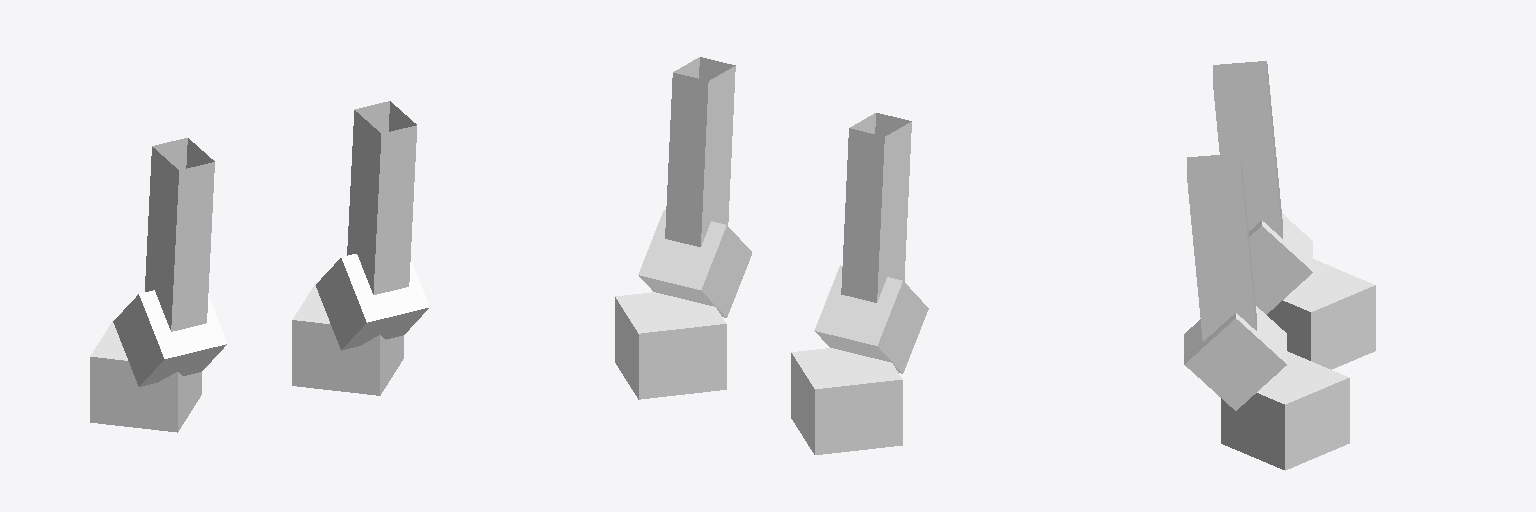
The model's file is mt_horse_bb.obj.
3 renders of one model, left to right at view 1: azimuth 30°, elevation 25°; view 2: azimuth 150°, elevation 25°; view 3: azimuth 270°, elevation 25°, orthographic.
Parts seen in each view (by area): view 1: cube.003, cube.004, cube.000, cube, cube.001, cube.002; view 2: cube.003, cube.004, cube, cube.000, cube.001, cube.002; view 3: cube.000, cube.004, cube, cube.003, cube.001, cube.002.
Boxes of the visible parts, x1,y1,x2,y2 form: cube.003: [145, 138, 214, 331]; cube.004: [347, 101, 416, 294]; cube.000: [292, 283, 403, 395]; cube: [90, 320, 201, 432]; cube.001: [316, 254, 429, 350]; cube.002: [113, 290, 226, 386]; cube.003: [841, 113, 911, 302]; cube.004: [665, 57, 735, 246]; cube: [791, 348, 902, 454]; cube.000: [615, 292, 726, 399]; cube.001: [638, 210, 751, 317]; cube.002: [814, 265, 928, 373]; cube.000: [1221, 351, 1349, 470]; cube.004: [1187, 153, 1256, 341]; cube: [1267, 259, 1375, 369]; cube.003: [1213, 61, 1282, 238]; cube.001: [1184, 306, 1286, 410]; cube.002: [1249, 214, 1312, 314].
Size of the model in its own units: 1.15 by 1.04 by 0.6354.